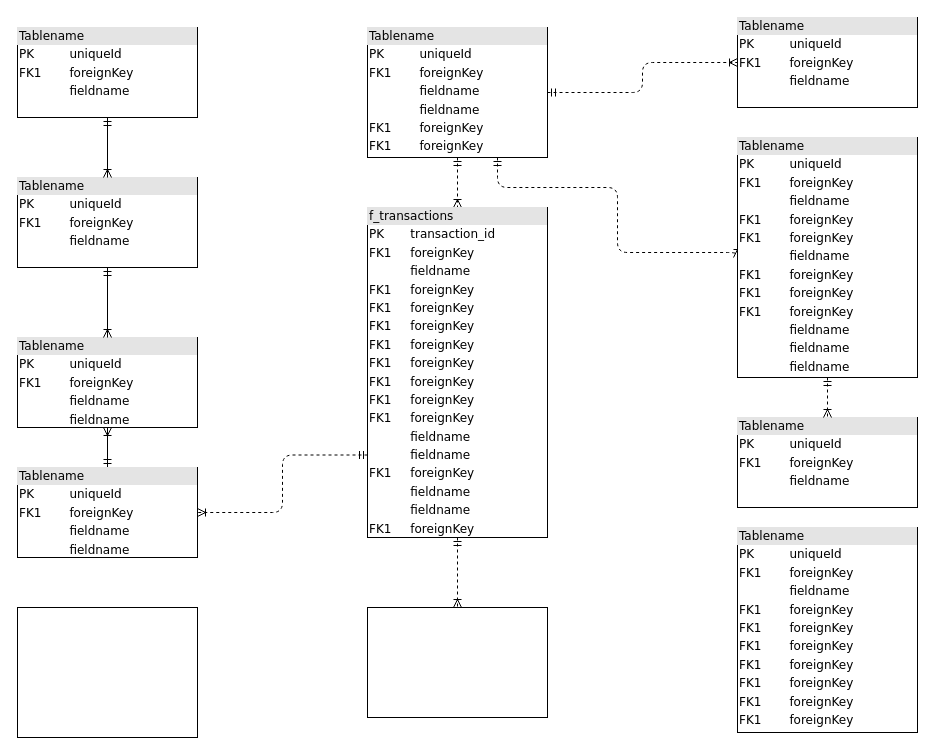
This 935x755 diagram has some shape labels left out. Each missing label, with the centre of its shape:
"Tablename PK uniqueId FK1 foreignKey fieldname fieldname fieldname fieldname" goes at (x=107, y=672).
"Tablename PK uniqueId FK1 foreignKey fieldname fieldname FK1 foreignKey" goes at (x=457, y=662).
